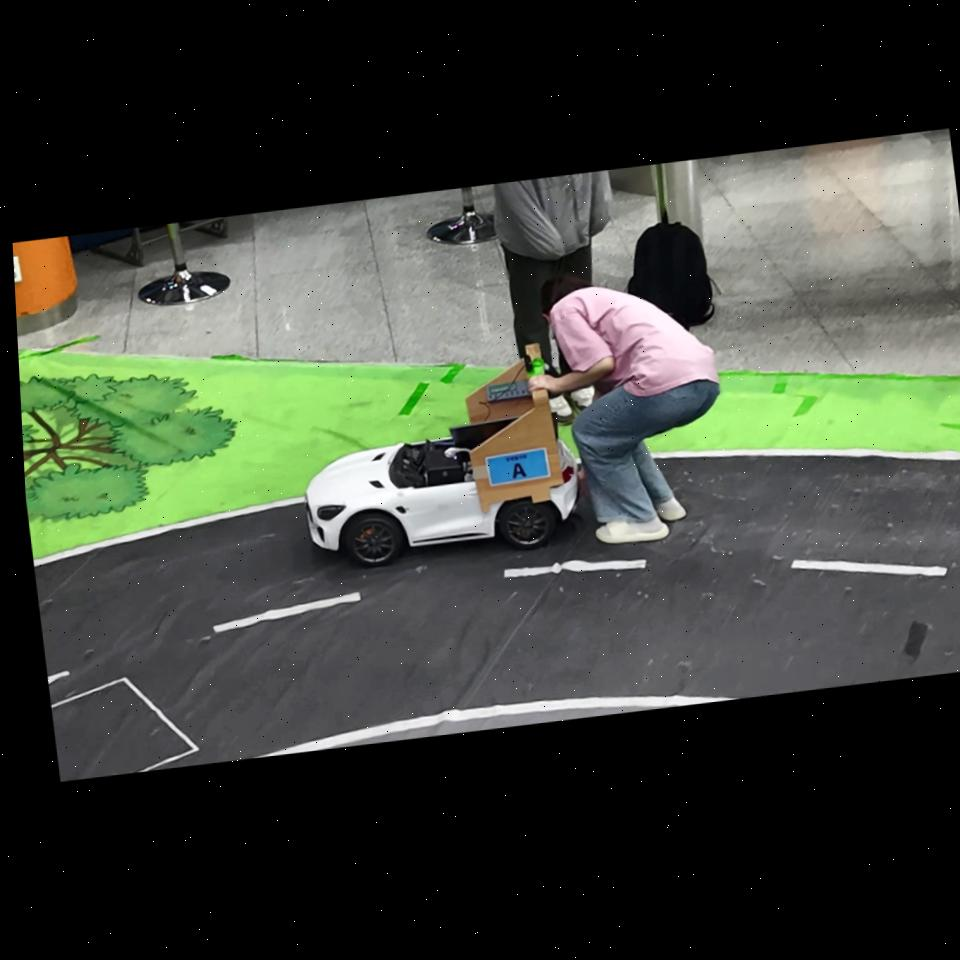broken_line: (214, 592, 360, 632), (505, 559, 647, 578), (792, 560, 947, 576), (48, 671, 70, 684)
